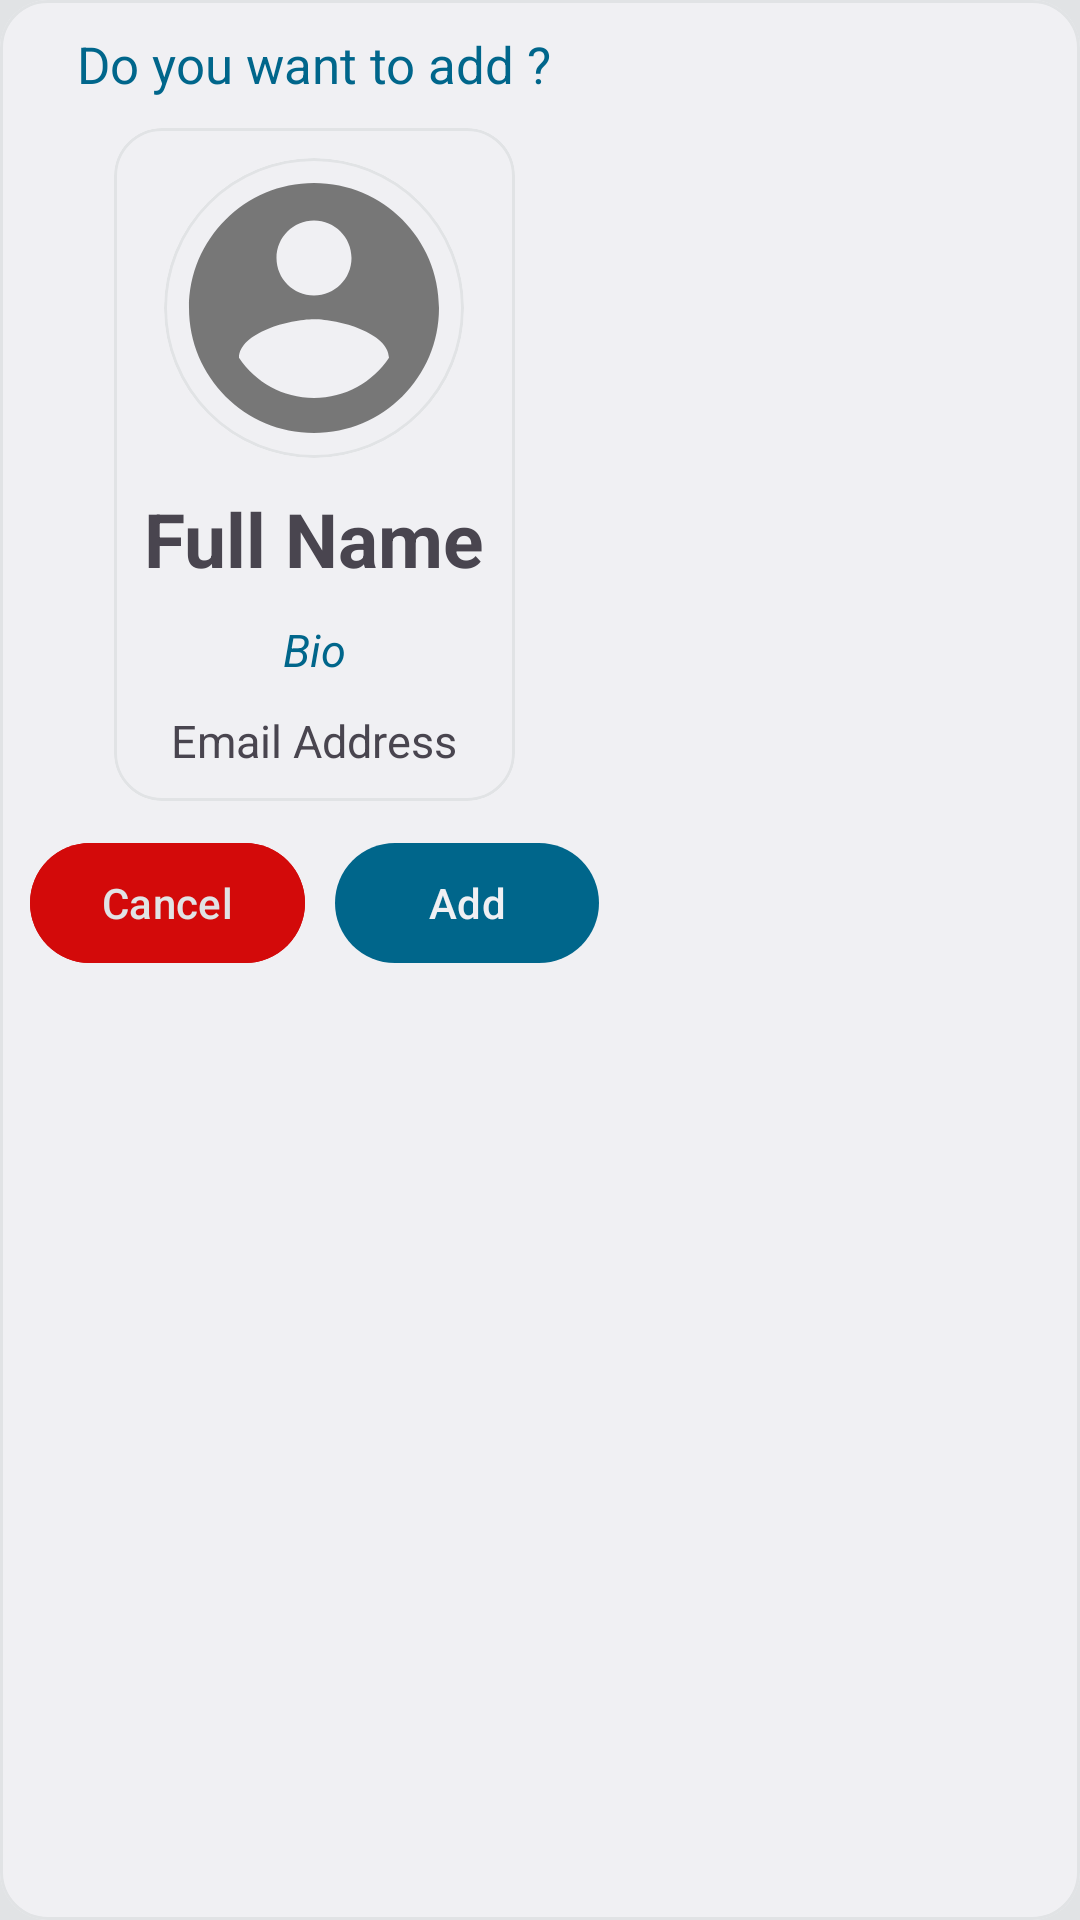

Where to tap for icons on this 1080*1920 app screen, as [x,y]:
account: [314,308]
